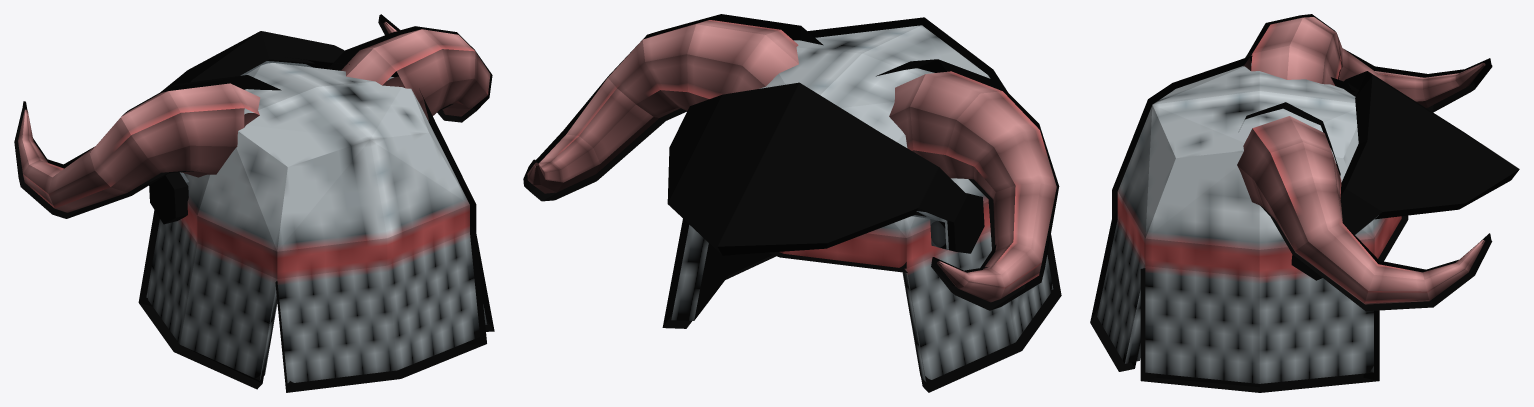
File: 2helmet_hat.fbx
3 views of the same model, side by side, from view 1: azimuth 30°, elevation 25°; view 2: azimuth 150°, elevation 25°; view 3: azimuth 270°, elevation 25° (orthographic). The views are drawn at different scales.
Visible parts, largest first — view 1: capacete, outline_1, outline; view 2: capacete, outline, outline_1, viseira; view 3: capacete, outline, outline_1.
Part boxes in pixels (<box>): capacete: <box>18,21,490,383</box>; outline_1: <box>14,14,494,392</box>; outline: <box>149,31,344,224</box>; capacete: <box>527,20,1056,382</box>; outline: <box>667,82,984,255</box>; outline_1: <box>523,14,1061,392</box>; viseira: <box>912,211,948,249</box>; capacete: <box>1097,17,1485,383</box>; outline: <box>1291,71,1519,280</box>; outline_1: <box>1090,14,1492,392</box>.
Bounding box in the file's own units: 228 × 126 × 194.
2 materials, 2 textured.
